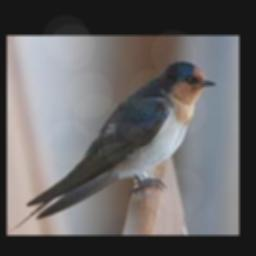Swallow: (10, 60, 216, 231)
